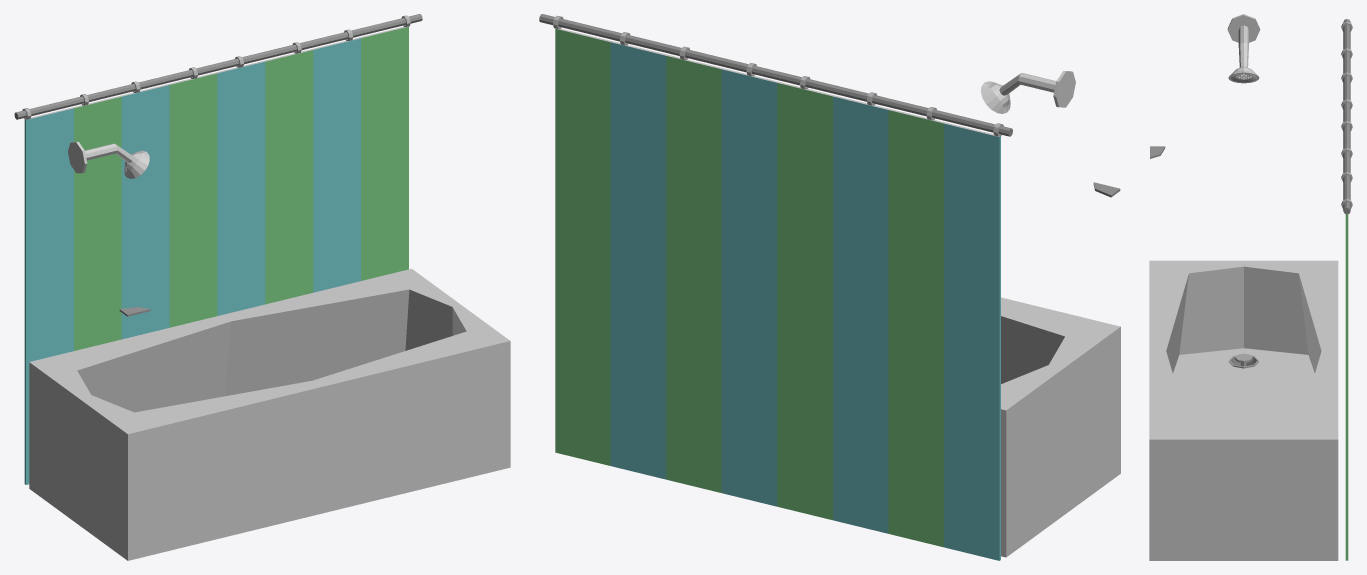
The model's file is Shower.fbx.
The picture shows the model from 3 angles, left to right: view 1: azimuth 30°, elevation 25°; view 2: azimuth 150°, elevation 25°; view 3: azimuth 270°, elevation 25°; orthographic projection. The views are drawn at different scales.
Parts seen in each view (by area): view 1: Shower; view 2: Shower; view 3: Shower.
Part boxes in pixels (x1,y1,x2,y2): Shower: (14, 14, 510, 560); Shower: (539, 14, 1120, 560); Shower: (1149, 14, 1352, 560).
Bounding box in the file's own units: 7.28 × 6.59 × 3.31.
